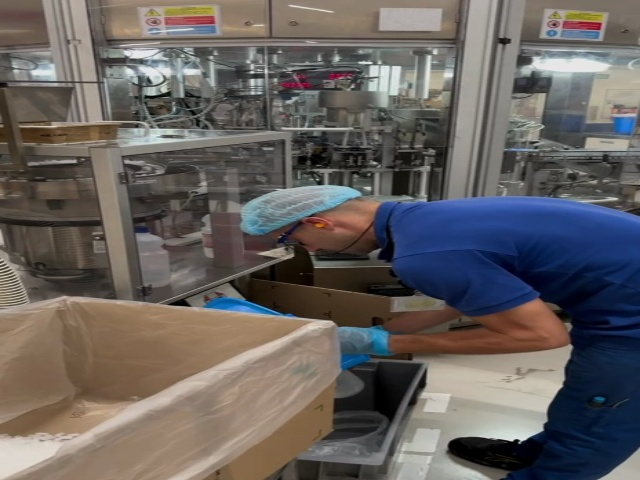Earplug: (301, 215, 335, 235)
Hairnet: (241, 184, 369, 237)
No_Helmet: (242, 184, 365, 233)
No_Vest: (386, 200, 640, 311)
Person: (243, 183, 640, 480)
Safety_Goggles: (273, 212, 311, 248)
